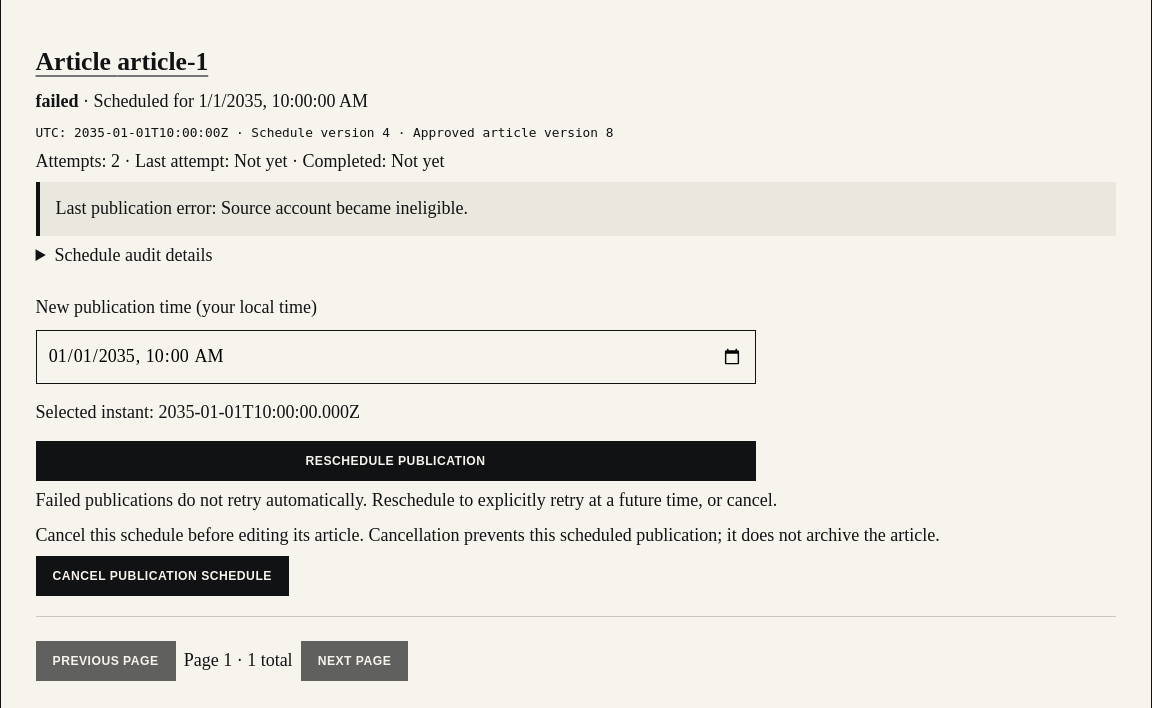
it: publication schedule workspace › surfaces optimistic conflicts and publication failures without claiming a successful mutation
The width and height of the screenshot is (1152, 708).
(page scrolled)
Expected: the text "Last publication error: Source account became ineligible." is shown, [36,182,1116,236]
Click the button "Cancel publication schedule" at [162, 576], box [36,556,289,596]
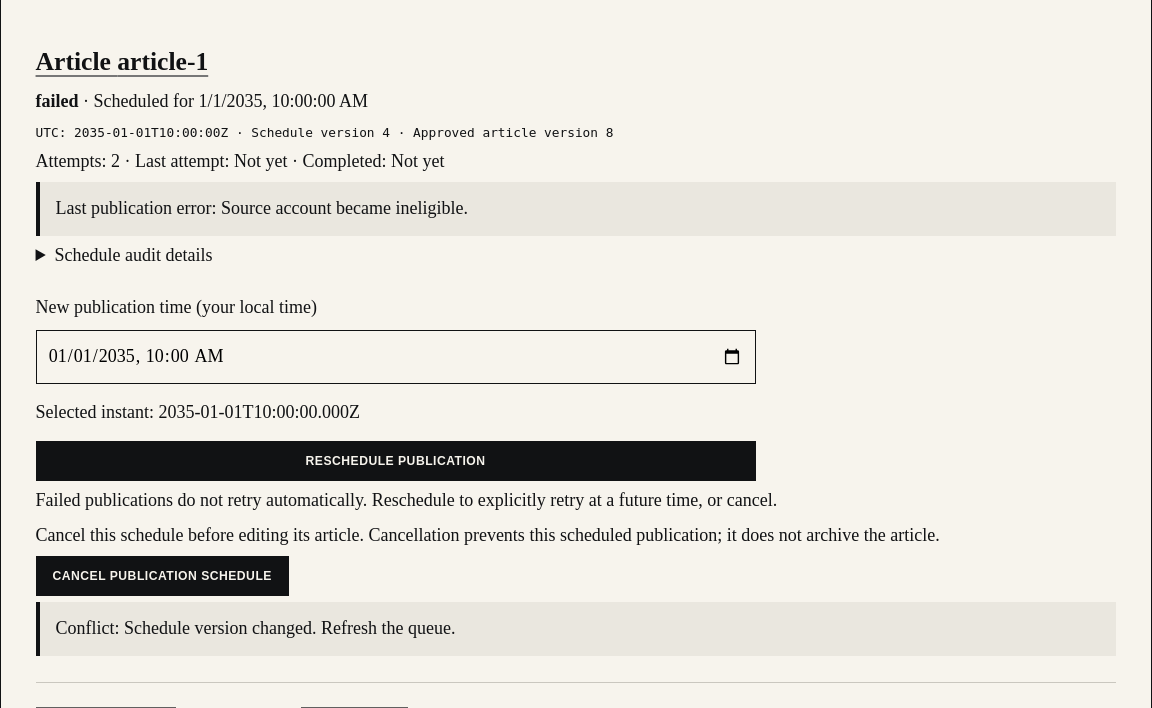
Result: the message shows "Schedule version changed. Refresh the queue." at [56,618,455,638]
